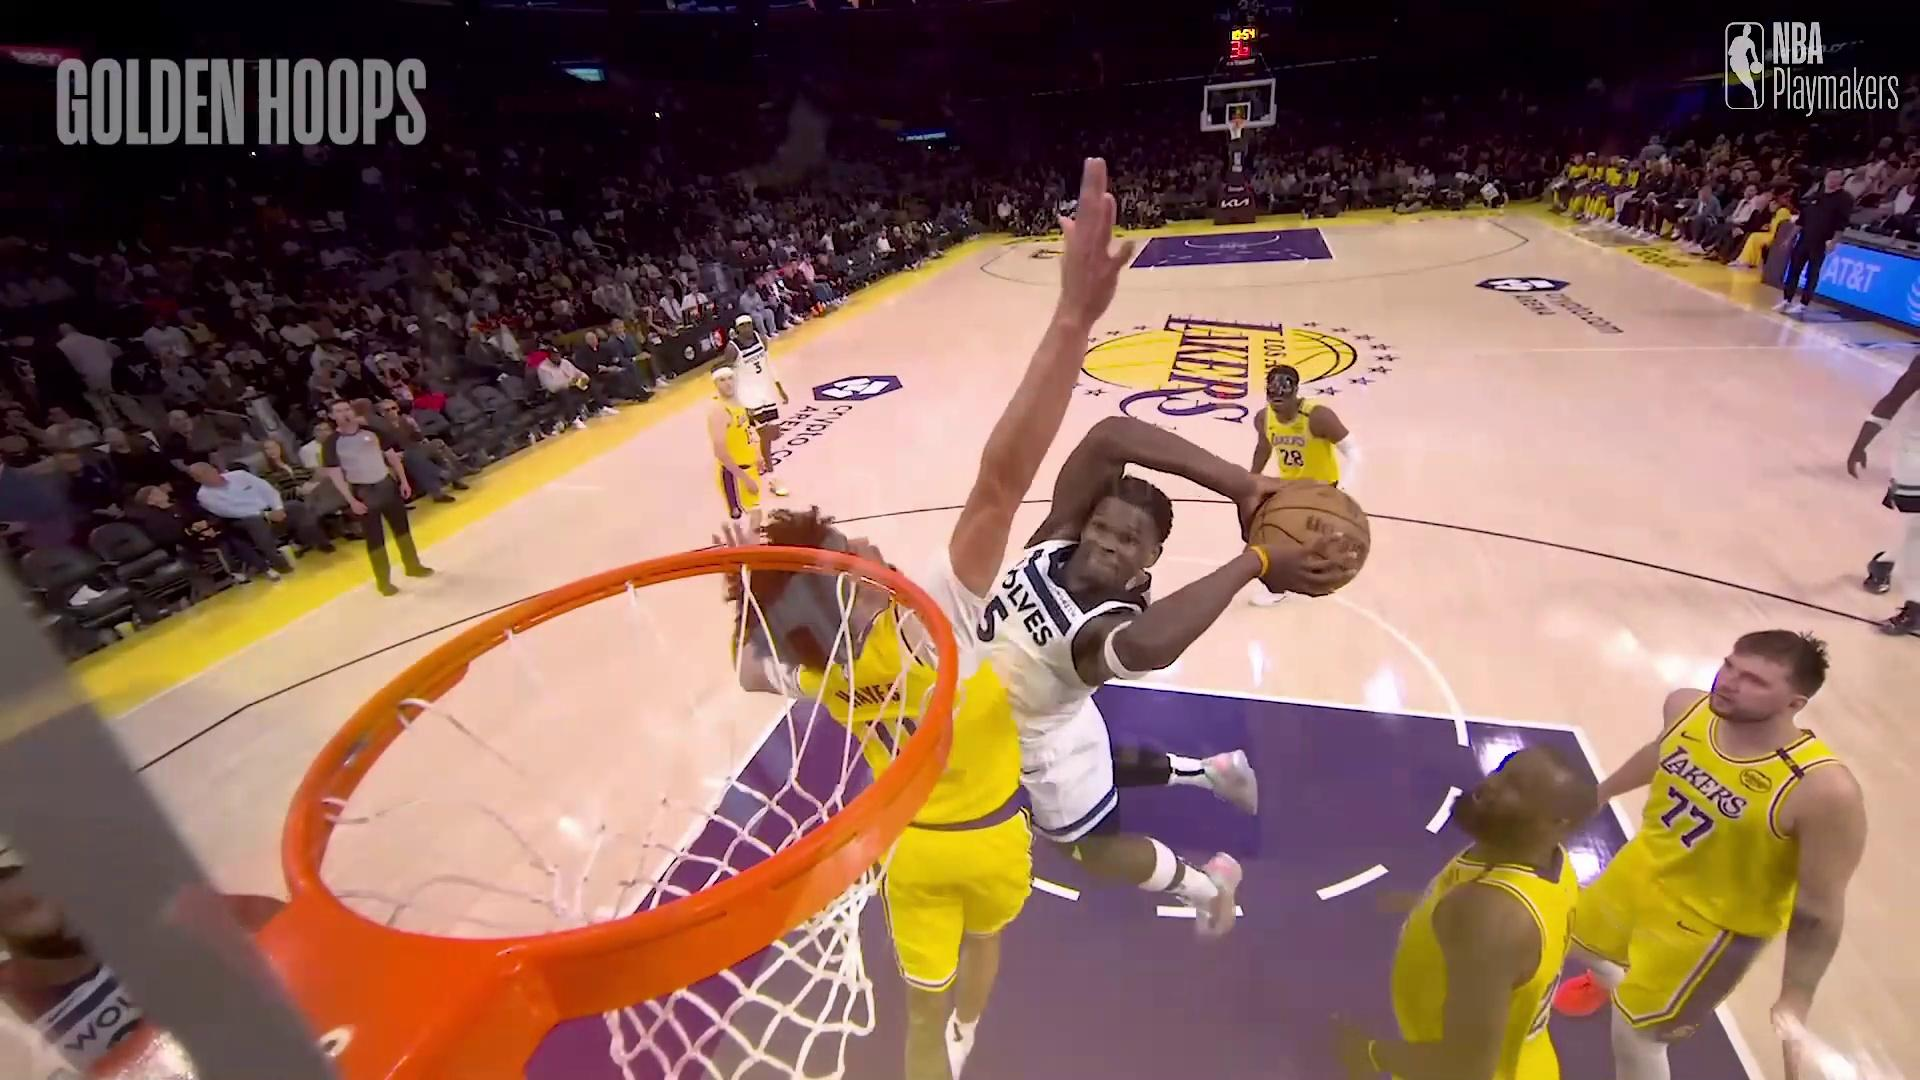ball: (1248, 480, 1374, 594)
hoop: (192, 516, 1010, 1070), (1222, 117, 1246, 144)
